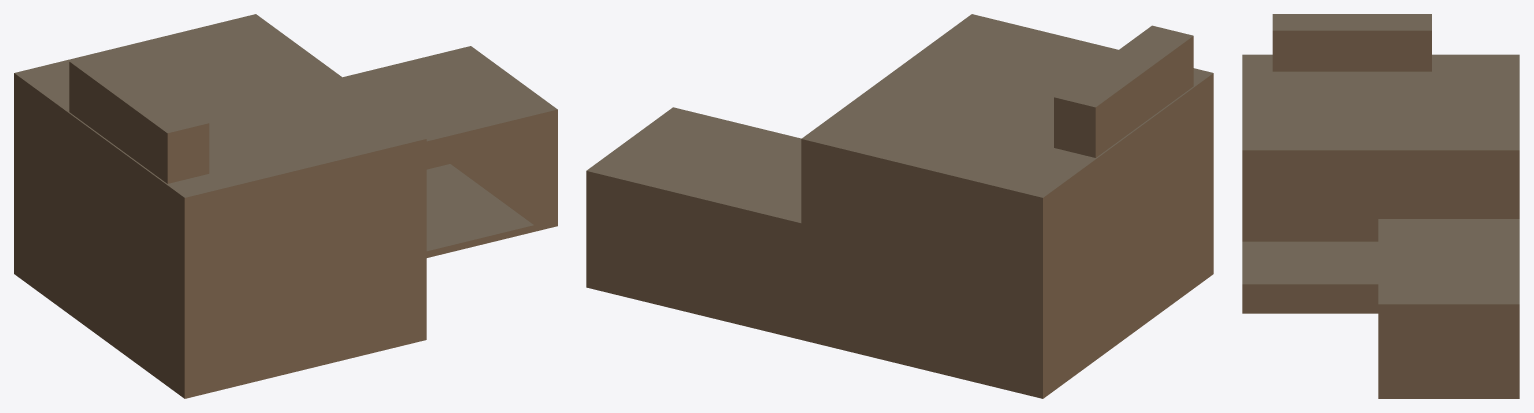
The model's file is cr-adobe-courtyard.far-facades-v3.lod2.glb.
The picture shows the model from 3 angles, left to right: view 1: azimuth 30°, elevation 25°; view 2: azimuth 150°, elevation 25°; view 3: azimuth 270°, elevation 25°; orthographic projection. The views are drawn at different scales.
Parts seen in each view (by area): view 1: cr-adobe-courtyard; view 2: cr-adobe-courtyard; view 3: cr-adobe-courtyard.
Part boxes in pixels (box(x1,y1,x2,y2)): cr-adobe-courtyard: box(14, 14, 557, 398); cr-adobe-courtyard: box(586, 14, 1213, 398); cr-adobe-courtyard: box(1242, 14, 1519, 398).
Bounding box in the file's own units: 17 × 8.95 × 11.
